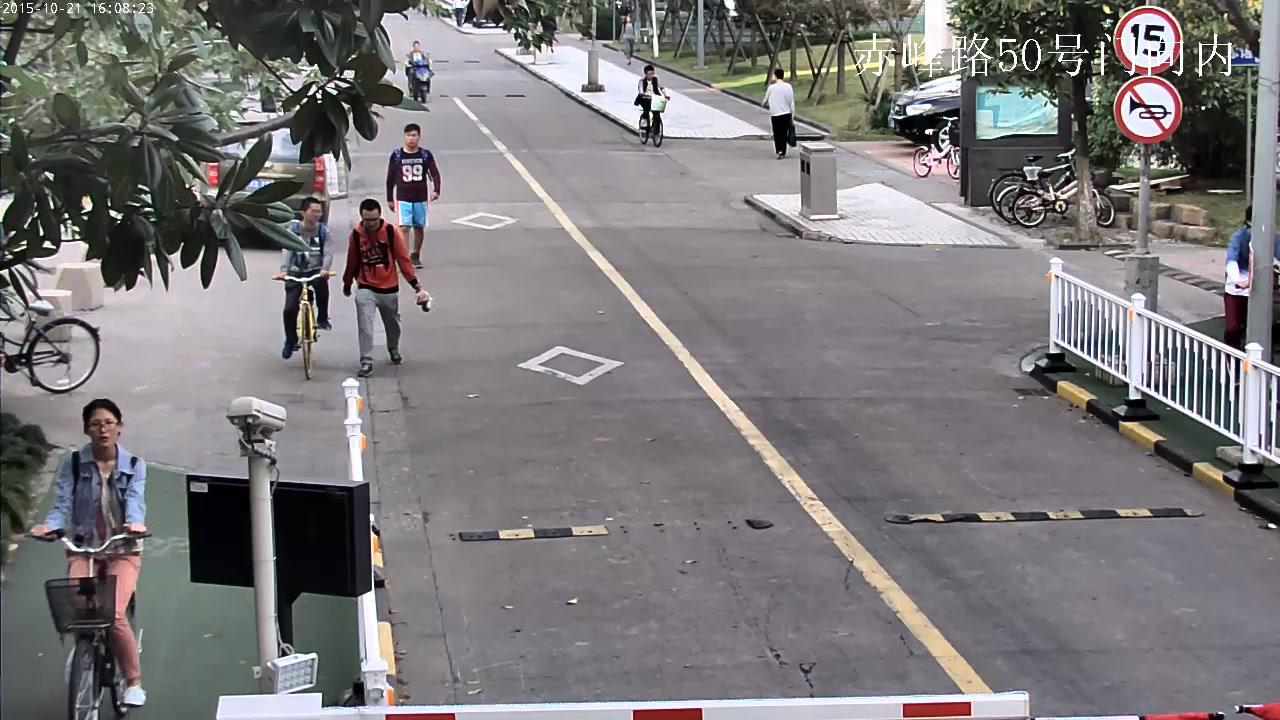face: (90, 408, 117, 446), (362, 207, 379, 231), (306, 202, 322, 224), (405, 129, 418, 147), (648, 70, 653, 79), (414, 42, 419, 50), (627, 16, 630, 22)
